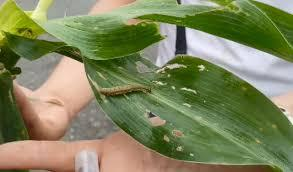fallarmy_worm: (97, 81, 159, 98)
